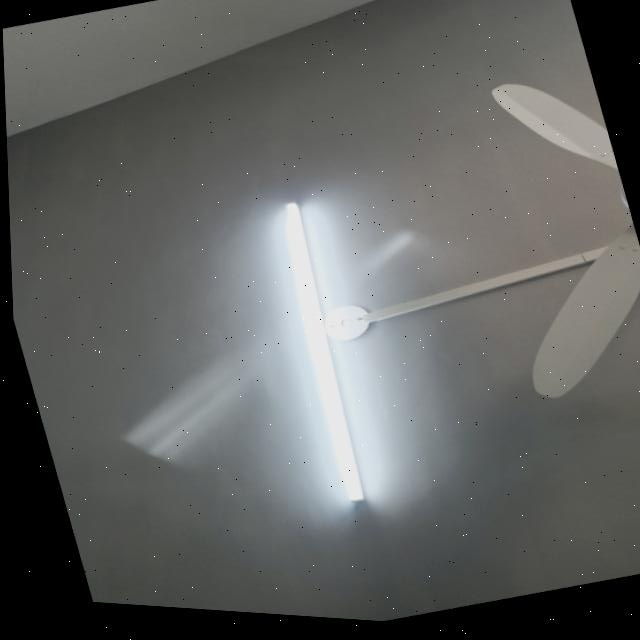fluorescent tube: (253, 190, 393, 519)
